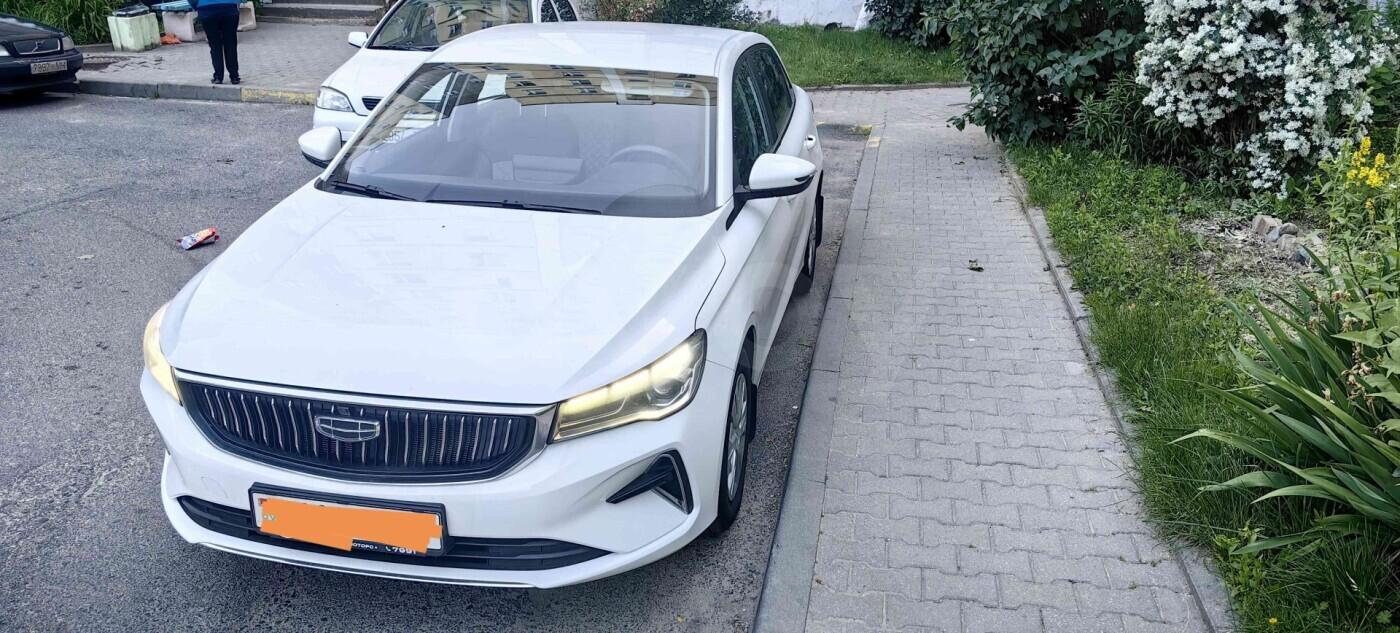Emgrand_2021: (140, 18, 830, 595)
